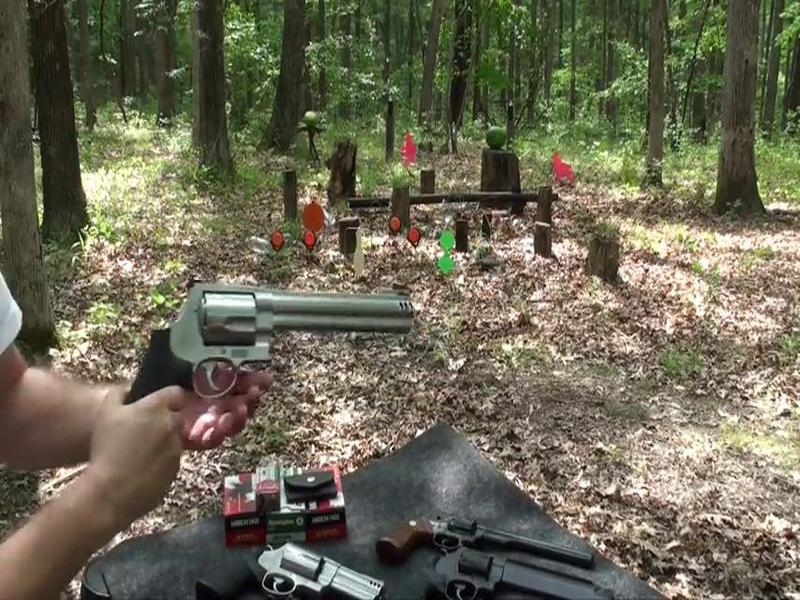Revolver: (111, 262, 415, 451)
